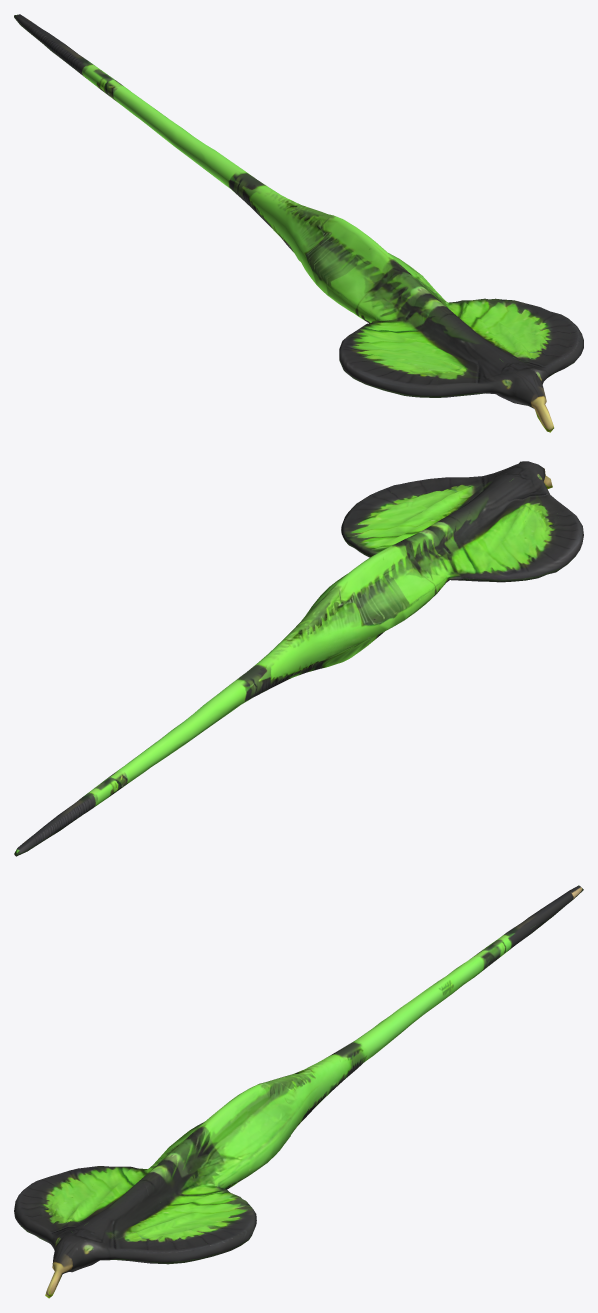
Rendered from Poison_dart_that_woul_1106030824_texture.fbx.
The picture shows the model from 3 angles, top to bottom: view 1: azimuth 30°, elevation 25°; view 2: azimuth 150°, elevation 25°; view 3: azimuth 330°, elevation 25°; orthographic projection.
Parts seen in each view (by area): view 1: input; view 2: input; view 3: input.
Part boxes in pixels (x1=…): input: x1=14, y1=14, x2=583, y2=432; input: x1=14, y1=461, x2=583, y2=856; input: x1=14, y1=885, x2=583, y2=1298.
Size of the model in its own units: 43.72 by 16.18 by 188.
Materials: 1 (1 with a texture image).
